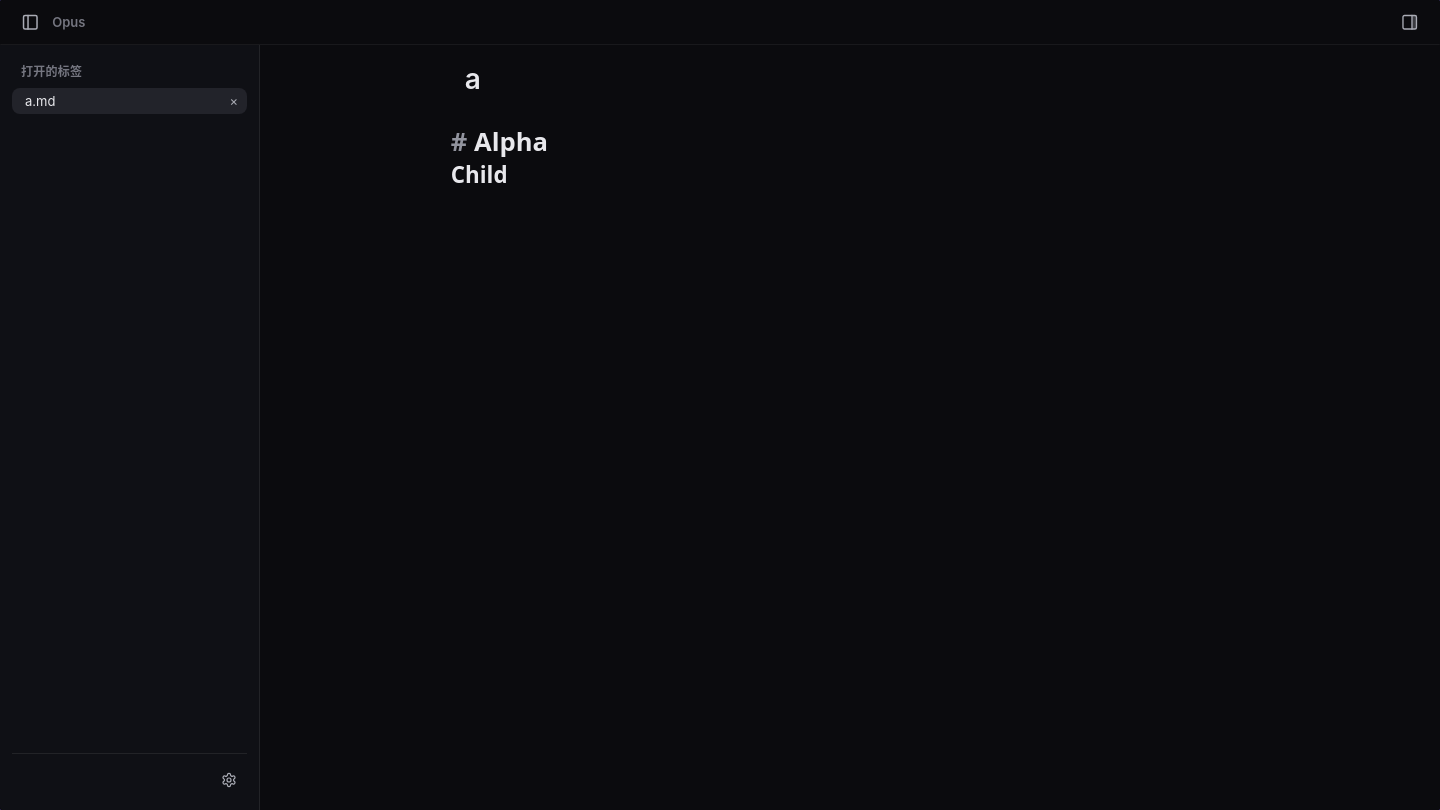
Test: AppShell › places a launch-collapsed right-sidebar toggle in the header
Check: the header with class "app-header" is shown, box [0,0,1439,45]
Click the button named "展开右侧栏". click: (1410, 22)
box: [1392,4,1428,40]
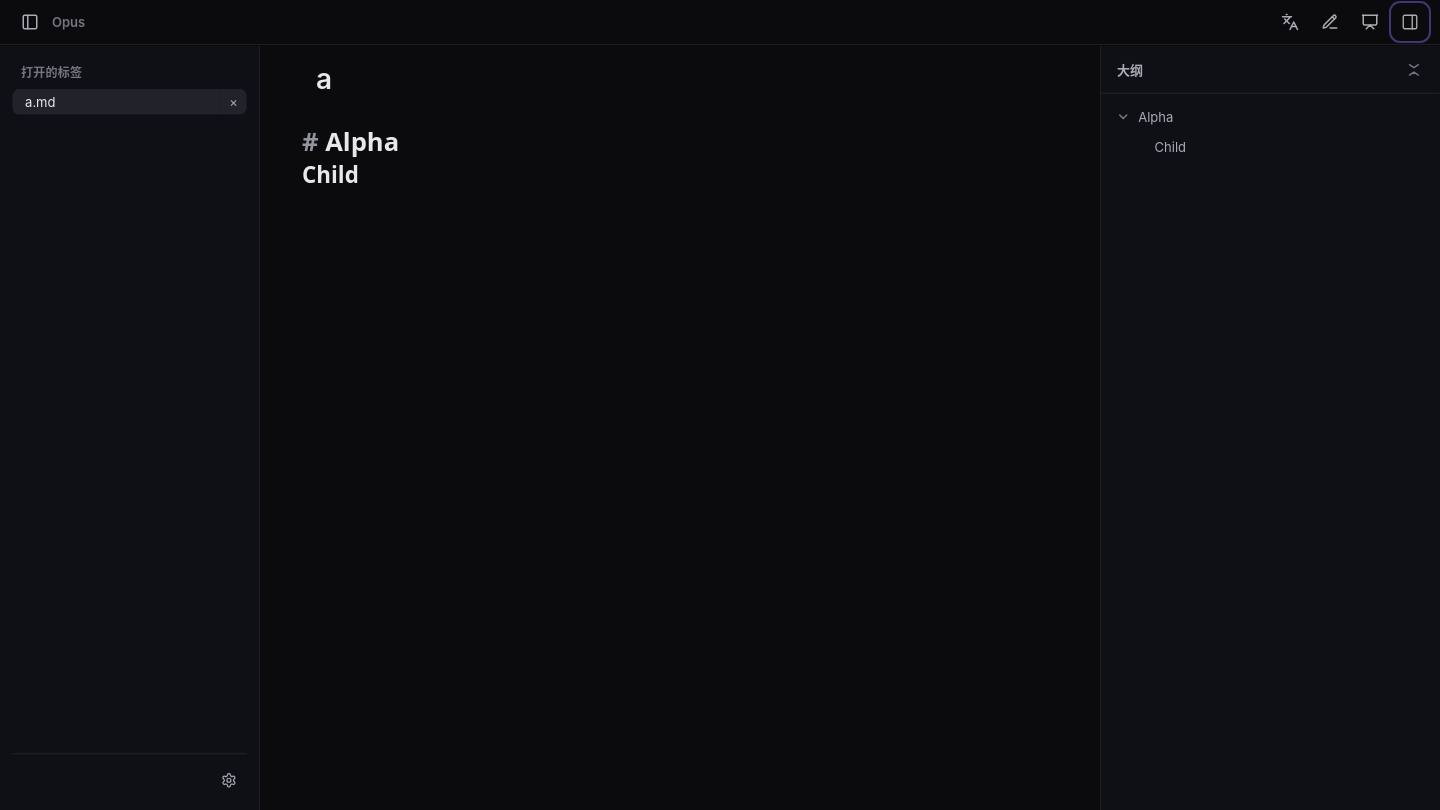
Check: the header with class "app-header" is shown, box [0,0,1439,45]
Check: the element named "大纲侧栏" is shown, box [1100,46,1439,809]
Check: the button named "展开右侧栏" is expanded
Click the button named "收起右侧栏". click: (1410, 22)
box: [1392,4,1428,40]
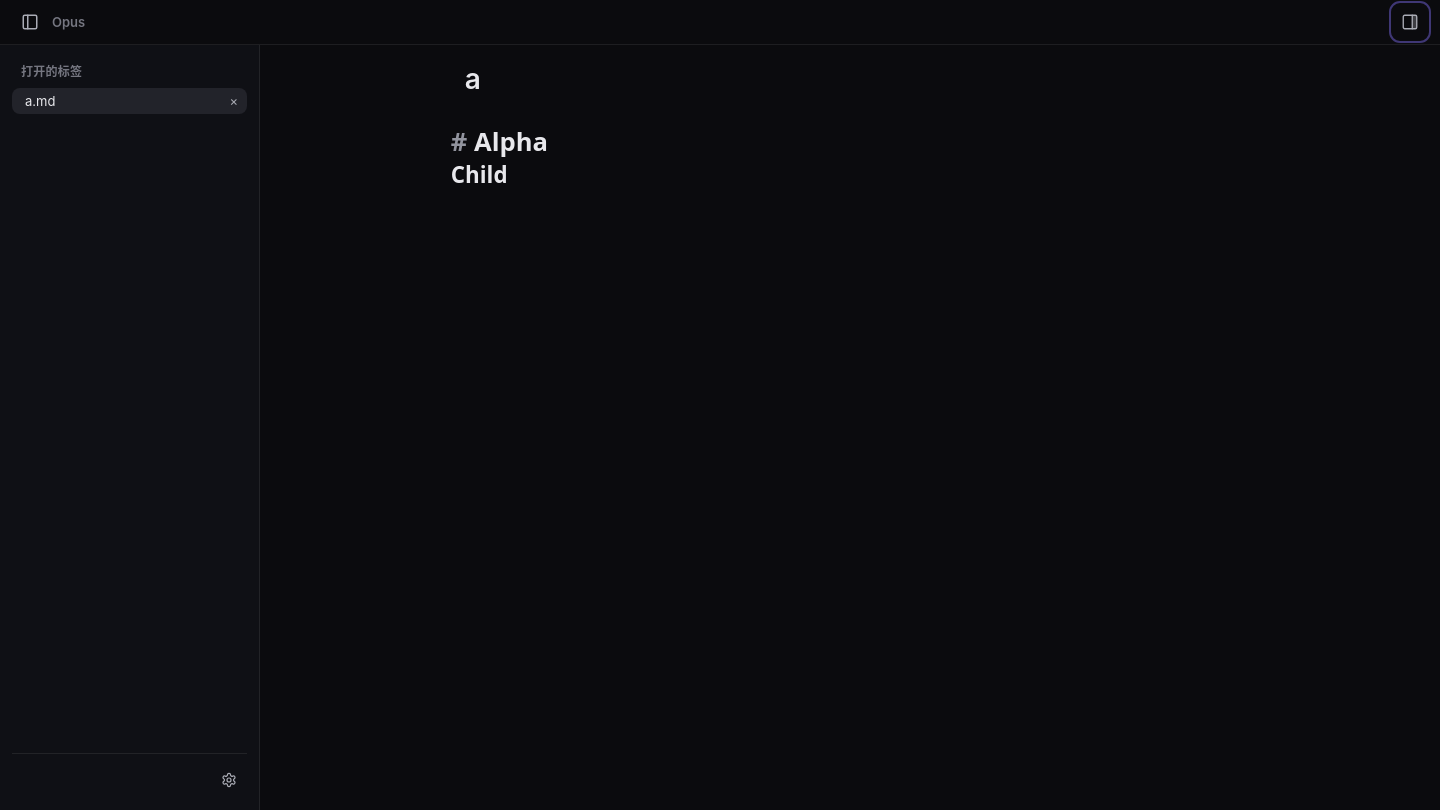
Check: the button named "收起右侧栏" is collapsed, box [1392,4,1428,40]
